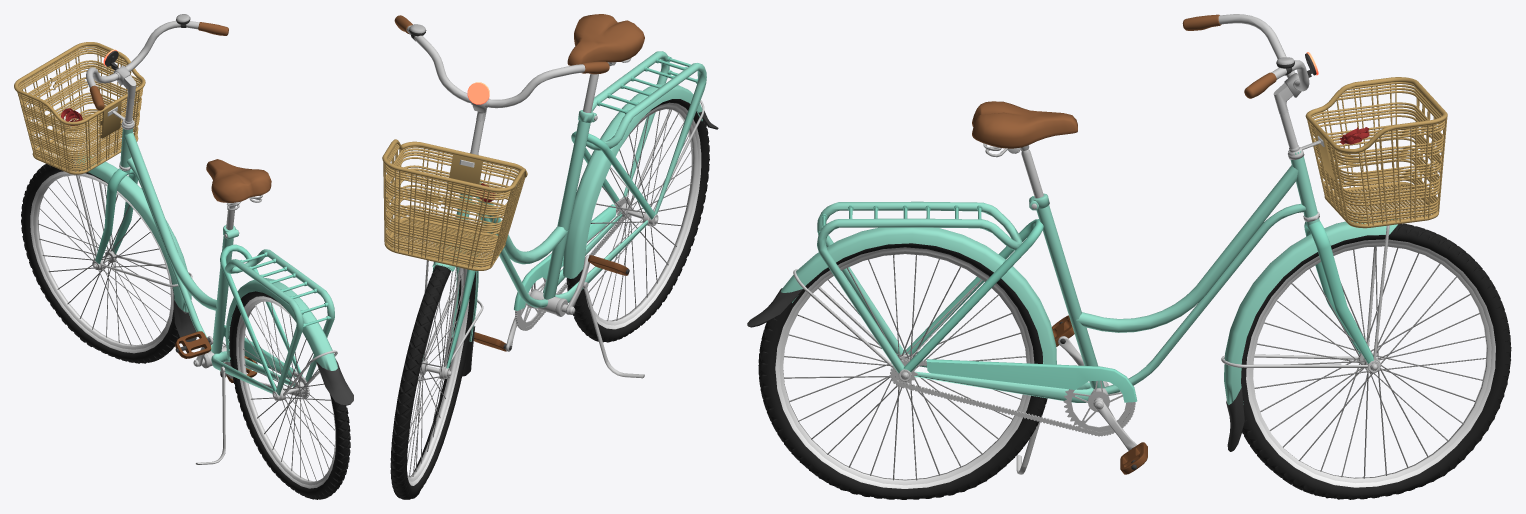
File: bike.glb
3 renders of one model, left to right at view 1: azimuth 30°, elevation 25°; view 2: azimuth 150°, elevation 25°; view 3: azimuth 270°, elevation 25°, orthographic. The views are drawn at different scales.
Parts seen in each view (by area): view 1: polySurface811_phong4_0, polySurface1533_lambert10_0, polySurface1512_lambert5_0, polySurface1343_phong2_0, polySurface1322_phong8_0, pCylinder56_phong5_0, polySurface841_lambert1_0, polySurface1348_lambert6_0, polySurface843_phong3_0, polySurface1542_lambert9_0, polySurface1543_phong7_0, polySurface1537_lambert8_0; view 2: polySurface1533_lambert10_0, polySurface811_phong4_0, polySurface1512_lambert5_0, pCylinder56_phong5_0, polySurface1343_phong2_0, polySurface1322_phong8_0, polySurface1348_lambert6_0, polySurface841_lambert1_0, polySurface843_phong3_0, polySurface1543_phong7_0, polySurface1537_lambert8_0, polySurface1542_lambert9_0 (+1 smaller); view 3: polySurface811_phong4_0, polySurface1512_lambert5_0, polySurface1533_lambert10_0, polySurface1343_phong2_0, polySurface1322_phong8_0, pCylinder56_phong5_0, polySurface841_lambert1_0, polySurface843_phong3_0, polySurface1348_lambert6_0, polySurface1543_phong7_0, polySurface1542_lambert9_0, polySurface1537_lambert8_0.
Boxes of the visible parts, <box> form: polySurface811_phong4_0: <box>76,128,337,395</box>; polySurface1533_lambert10_0: <box>14,42,145,174</box>; polySurface1512_lambert5_0: <box>21,157,350,499</box>; polySurface1343_phong2_0: <box>38,176,334,481</box>; polySurface1322_phong8_0: <box>95,168,331,391</box>; pCylinder56_phong5_0: <box>74,20,337,464</box>; polySurface841_lambert1_0: <box>33,173,335,485</box>; polySurface1348_lambert6_0: <box>89,22,271,202</box>; polySurface843_phong3_0: <box>30,171,335,488</box>; polySurface1542_lambert9_0: <box>105,17,353,405</box>; polySurface1543_phong7_0: <box>93,14,309,398</box>; polySurface1537_lambert8_0: <box>175,331,257,382</box>; polySurface1533_lambert10_0: <box>382,139,527,270</box>; polySurface811_phong4_0: <box>432,51,706,341</box>; polySurface1512_lambert5_0: <box>390,99,709,499</box>; pCylinder56_phong5_0: <box>406,25,704,378</box>; polySurface1343_phong2_0: <box>407,109,692,476</box>; polySurface1322_phong8_0: <box>422,56,697,368</box>; polySurface1348_lambert6_0: <box>394,14,644,74</box>; polySurface841_lambert1_0: <box>407,106,698,481</box>; polySurface843_phong3_0: <box>407,102,701,485</box>; polySurface1543_phong7_0: <box>409,24,631,379</box>; polySurface1537_lambert8_0: <box>473,255,629,351</box>; polySurface1542_lambert9_0: <box>409,27,718,376</box>; polySurface811_phong4_0: <box>781,151,1398,404</box>; polySurface1512_lambert5_0: <box>758,223,1511,499</box>; polySurface1533_lambert10_0: <box>1305,77,1447,228</box>; polySurface1343_phong2_0: <box>784,246,1486,480</box>; polySurface1322_phong8_0: <box>818,205,1373,402</box>; pCylinder56_phong5_0: <box>793,14,1389,474</box>; polySurface841_lambert1_0: <box>779,243,1491,485</box>; polySurface843_phong3_0: <box>775,239,1495,488</box>; polySurface1348_lambert6_0: <box>972,14,1276,148</box>; polySurface1543_phong7_0: <box>890,57,1381,436</box>; polySurface1542_lambert9_0: <box>747,53,1316,470</box>; polySurface1537_lambert8_0: <box>1052,315,1147,474</box>.
Bounding box in the file's own units: 13.03 × 28.22 × 42.36.
